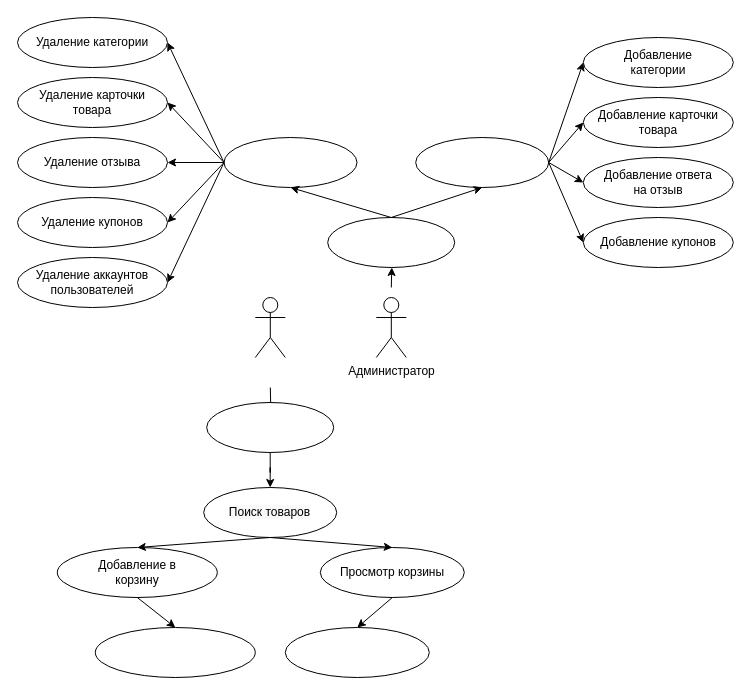
Some shapes in this 751 by 695 pixel diagram are drawn without their labels. The shapes that lost their labels are listed below. From the top down, each one's box as (x1, y1, x2, y2) in pixels, then its label:
(223, 136, 357, 188): Удаление
(415, 136, 549, 188): Добавление
(327, 216, 455, 268): Вход
(254, 296, 285, 358): Пользователь
(206, 402, 334, 452): Вход/регистрация
(94, 626, 255, 678): "Оставить отзыв" на карточке товара
(284, 626, 429, 678): Оформление заказа
